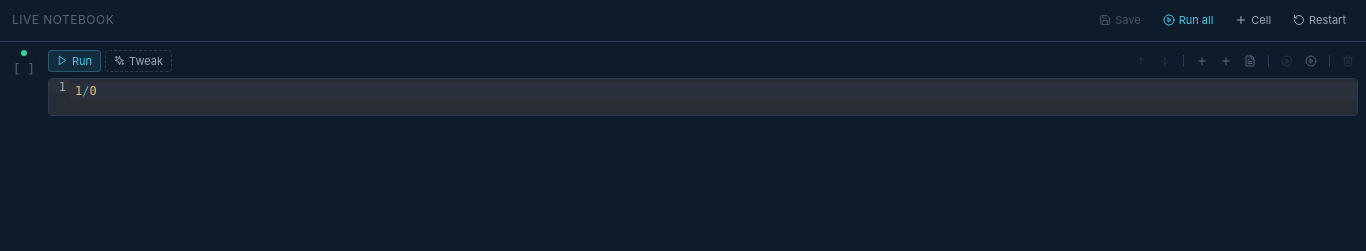
Test: LivePanel › renders error traceback when complete event reports failure
Click the button with aria-label "Run cell" at (75, 61), box [48, 50, 101, 72]
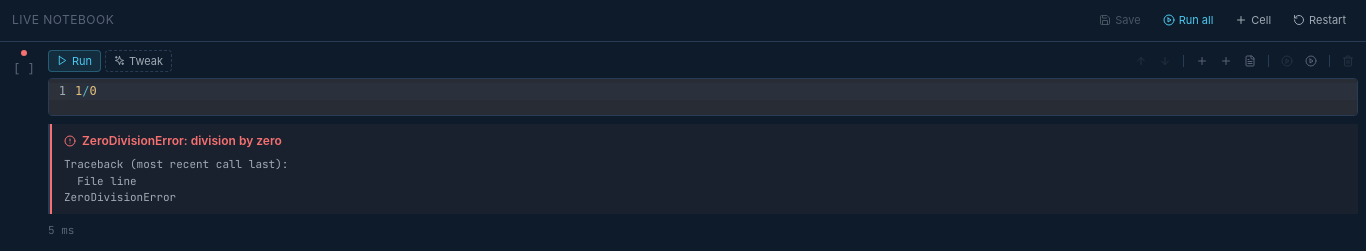
Check: the text "ZeroDivisionError: division by zero" is shown, box [82, 132, 282, 150]
